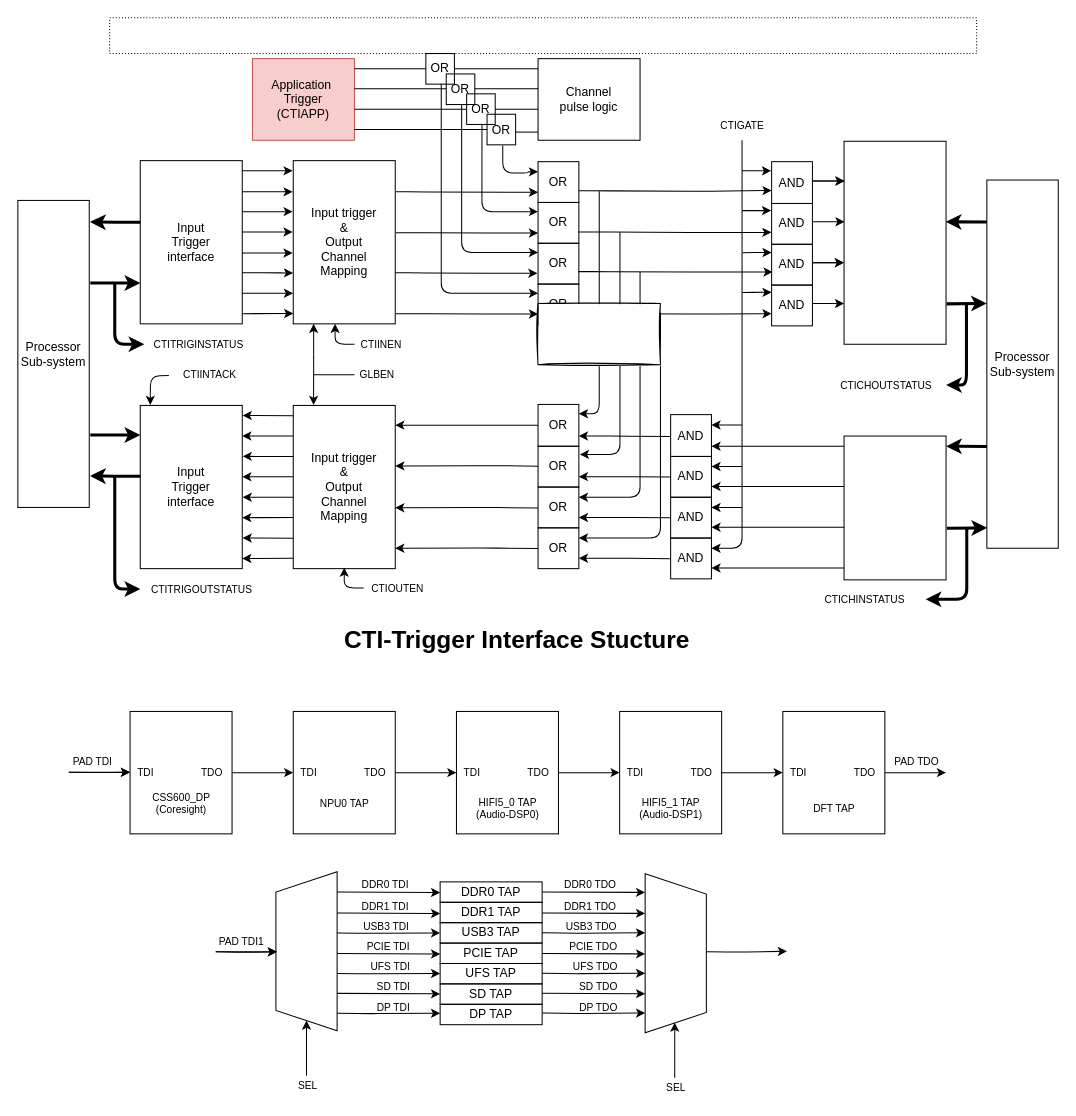
Image size: 1076x1116. Some labels were removed from this diagram. The box of each missing label's shape, as (x1, y1, x2, y2) in pixels:
Input Channel interface: (843, 435, 946, 580)
Output Channel interface: (843, 140, 946, 344)
PAD TDO1: (644, 873, 706, 1033)
